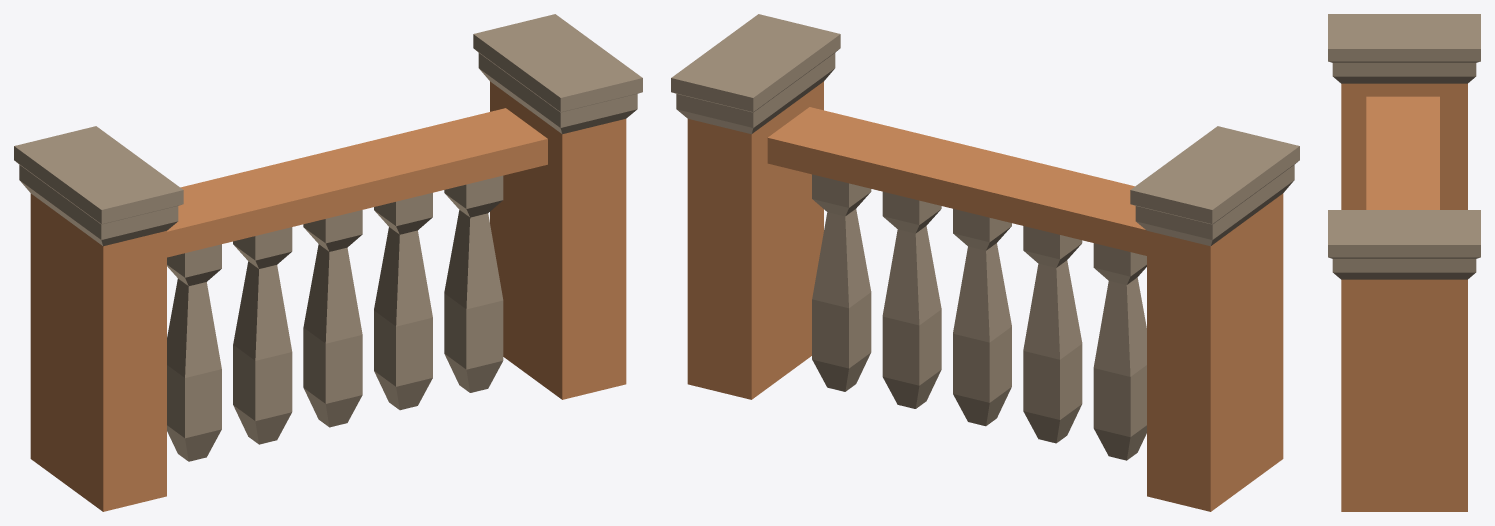
File: SM_Prop_RoofFence_01.glb
3 renders of one model, left to right at view 1: azimuth 30°, elevation 25°; view 2: azimuth 150°, elevation 25°; view 3: azimuth 270°, elevation 25°, orthographic. The views are drawn at different scales.
Visible parts, largest first — view 1: SM_Prop_RoofFence_01_part00; view 2: SM_Prop_RoofFence_01_part00; view 3: SM_Prop_RoofFence_01_part00.
Part boxes in pixels (x1=…): SM_Prop_RoofFence_01_part00: x1=14, y1=14, x2=642, y2=511; SM_Prop_RoofFence_01_part00: x1=671, y1=14, x2=1299, y2=511; SM_Prop_RoofFence_01_part00: x1=1328, y1=14, x2=1480, y2=511.
Size of the model in its own units: 1.73 by 0.9462 by 0.4842.
Materials: 1 (1 with a texture image).
